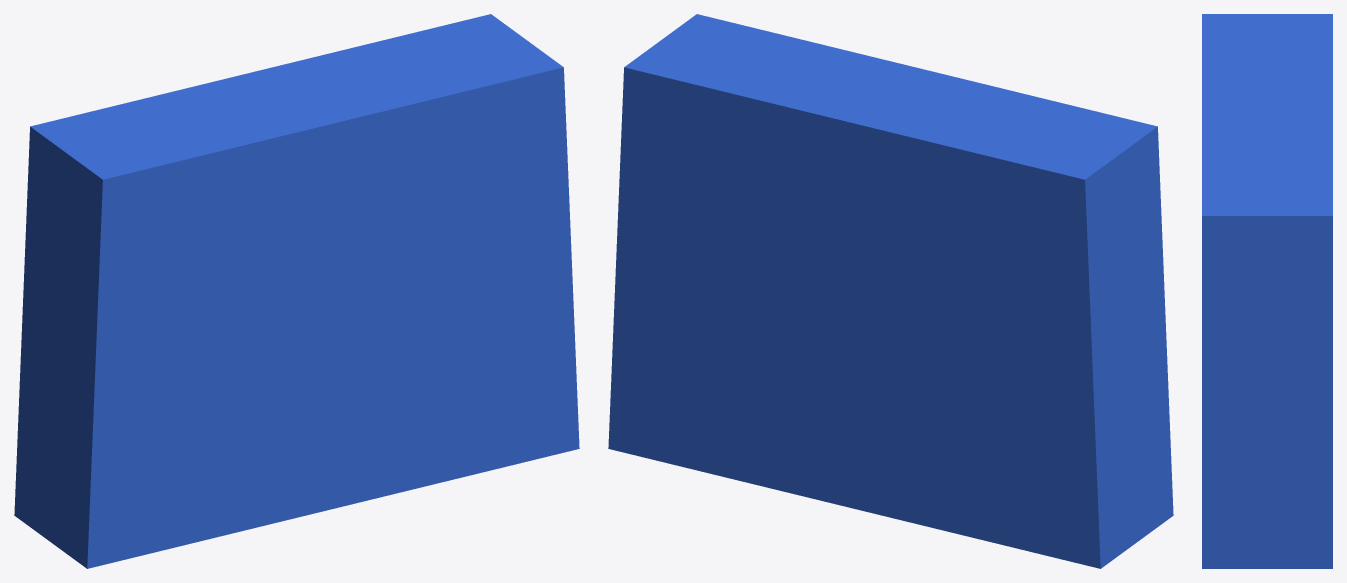
The model's file is Collision_Cabinet.fbx.
3 views of the same model, side by side, from view 1: azimuth 30°, elevation 25°; view 2: azimuth 150°, elevation 25°; view 3: azimuth 270°, elevation 25° (orthographic). The views are drawn at different scales.
Visible parts, largest first — view 1: UCX_Cabinet_1; view 2: UCX_Cabinet_1; view 3: UCX_Cabinet_1.
Boxes of the visible parts, box(x1,y1,x2,y2) form: UCX_Cabinet_1: box(14, 14, 579, 568); UCX_Cabinet_1: box(608, 14, 1173, 568); UCX_Cabinet_1: box(1202, 14, 1332, 568).
Size of the model in its own units: 136 by 102 by 34.85.
